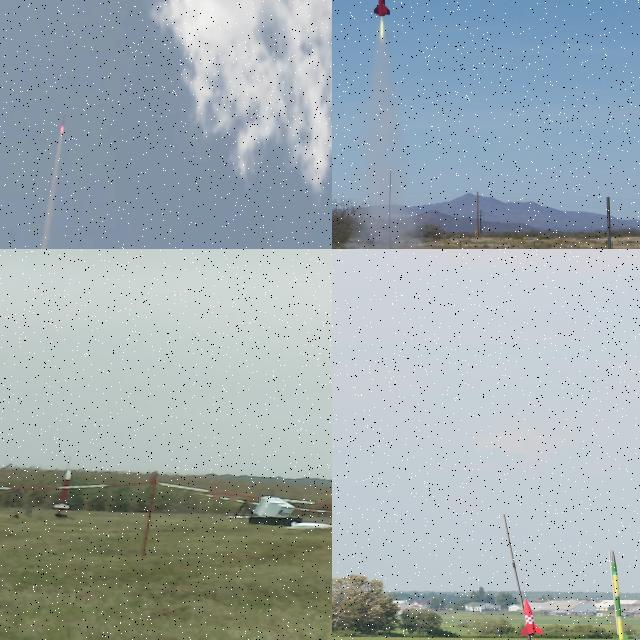Rocket: (611, 550, 629, 640), (520, 598, 543, 637), (52, 469, 72, 510), (372, 0, 391, 17), (60, 113, 66, 134)
